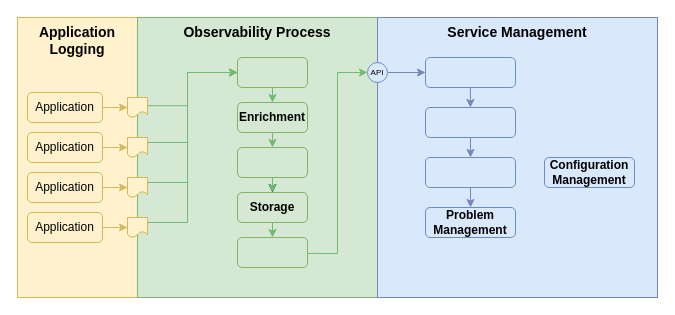
The diagram is 675 pixels wide and 315 high, and some of its shapes have lost their labels. The centre of each missing label's shape, as x and y in pixels:
Alert Management: the point at 470,122
Correlation: the point at 272,162
Event Management: the point at 470,72
Incident Management: the point at 470,172
Ingestion: the point at 272,72
Notification: the point at 272,252
